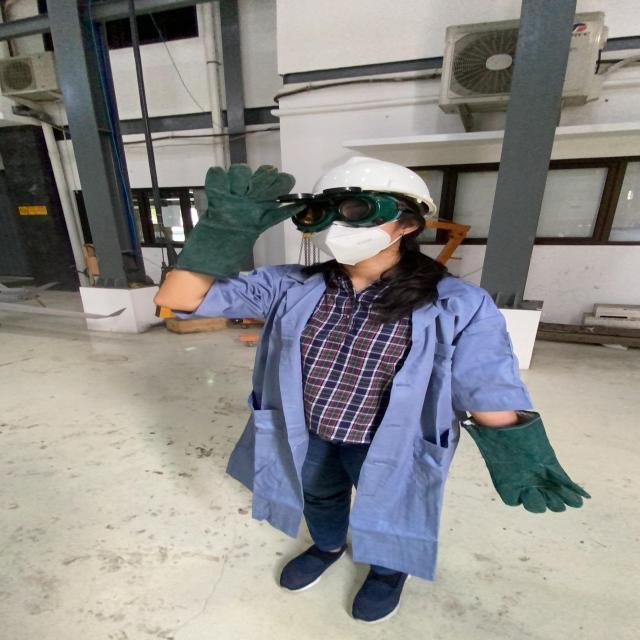glasses: (272, 189, 410, 235)
